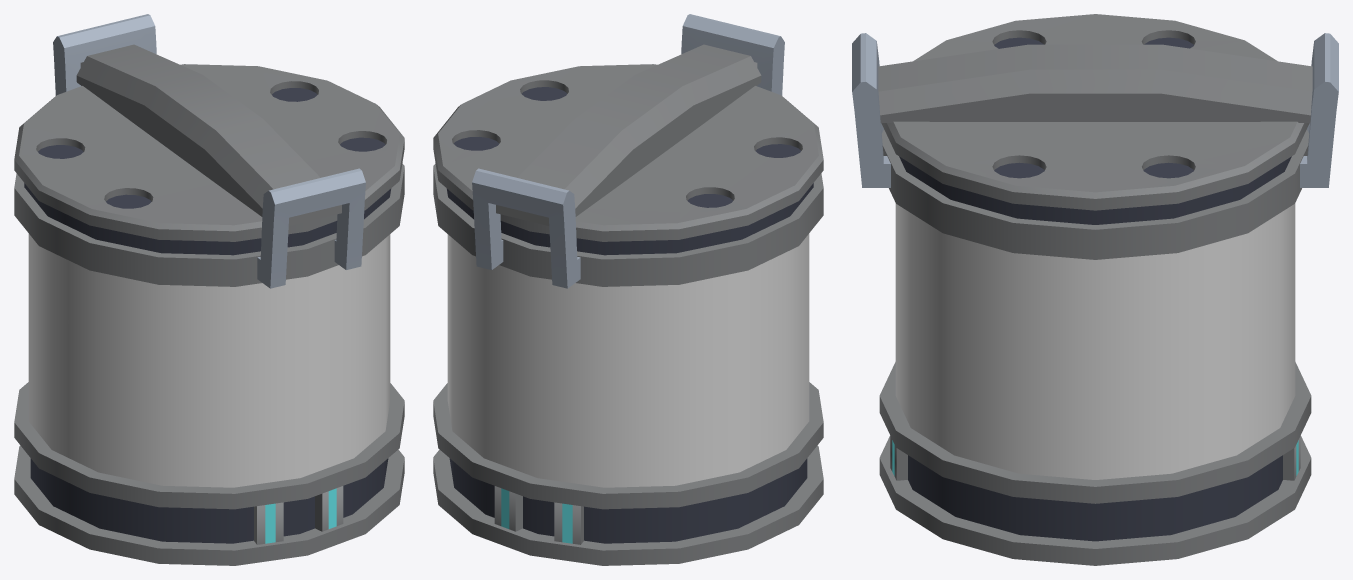
File: EnergyCell.fbx
3 views of the same model, side by side, from view 1: azimuth 30°, elevation 25°; view 2: azimuth 150°, elevation 25°; view 3: azimuth 270°, elevation 25° (orthographic). The views are drawn at different scales.
Visible parts, largest first — view 1: Cell, CellGlass; view 2: Cell, CellGlass; view 3: Cell, CellGlass.
Boxes of the visible parts, box(x1,y1,x2,y2) form: Cell: box(14, 14, 404, 565); CellGlass: box(28, 233, 390, 487); Cell: box(433, 14, 823, 565); CellGlass: box(447, 233, 809, 487); Cell: box(852, 14, 1338, 565); CellGlass: box(895, 203, 1295, 479).
Size of the model in its own units: 200 by 213 by 225.
